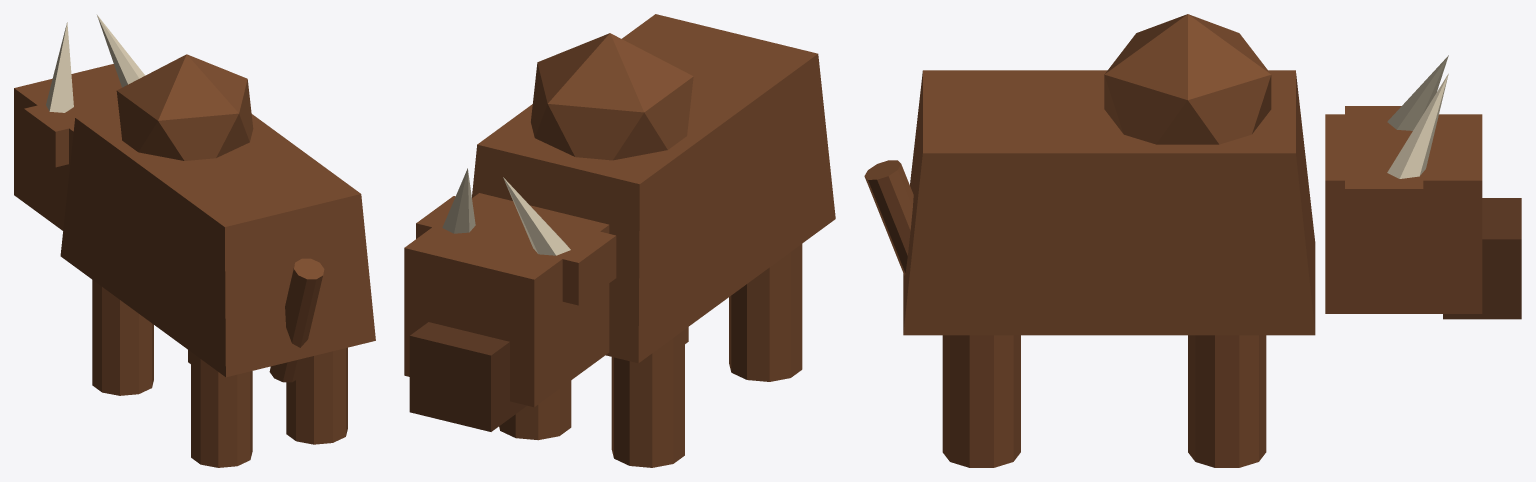
3 views of the same model, side by side, from view 1: azimuth 30°, elevation 25°; view 2: azimuth 150°, elevation 25°; view 3: azimuth 270°, elevation 25° (orthographic). The views are drawn at different scales.
Visible parts, largest first — view 1: body; view 2: body; view 3: body.
Part boxes in pixels (bbox=[...]): body: bbox=[14, 15, 375, 467]; body: bbox=[404, 14, 835, 467]; body: bbox=[864, 14, 1521, 467].
Size of the model in its own units: 0.22 by 0.46 by 0.6696.
